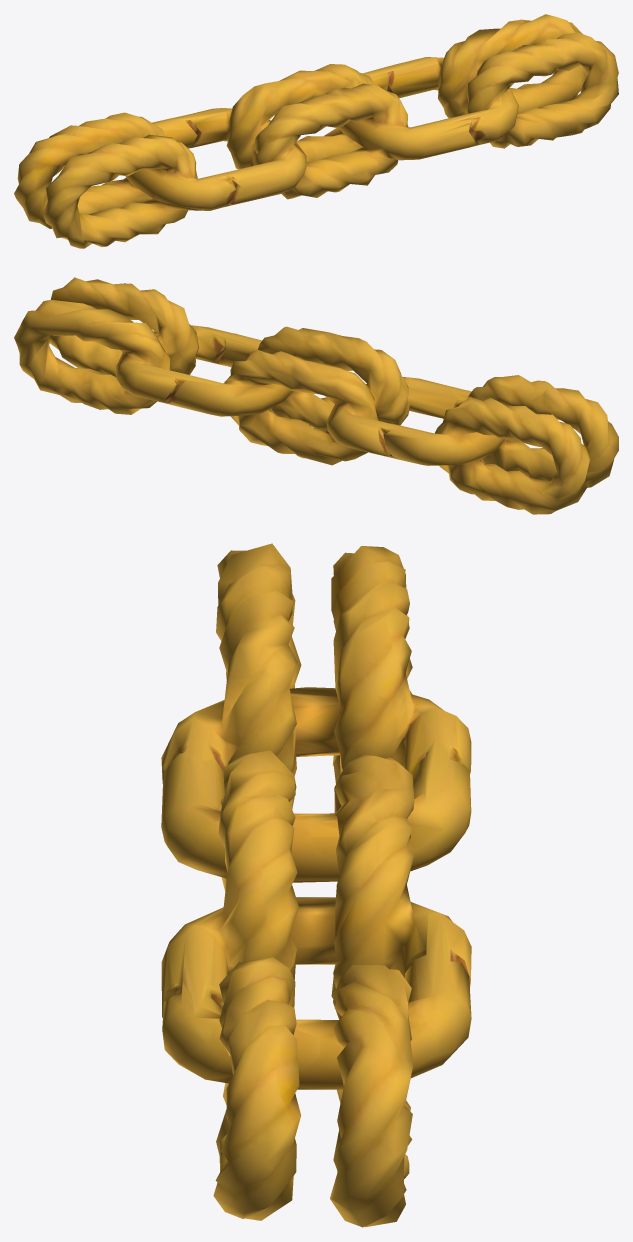
File: prop_chain_link.glb
3 views of the same model, one above another, from view 1: azimuth 30°, elevation 25°; view 2: azimuth 150°, elevation 25°; view 3: azimuth 270°, elevation 25° (orthographic). The views are drawn at different scales.
Parts seen in each view (by area): view 1: tripo_node_aaf5440b-e9b3-43b6-a96d-2130ffb78807; view 2: tripo_node_aaf5440b-e9b3-43b6-a96d-2130ffb78807; view 3: tripo_node_aaf5440b-e9b3-43b6-a96d-2130ffb78807.
Part boxes in pixels (box(x1,y1,x2,y2)): tripo_node_aaf5440b-e9b3-43b6-a96d-2130ffb78807: box(14, 14, 618, 248); tripo_node_aaf5440b-e9b3-43b6-a96d-2130ffb78807: box(14, 277, 618, 514); tripo_node_aaf5440b-e9b3-43b6-a96d-2130ffb78807: box(161, 543, 471, 1227).
Size of the model in its own units: 0.9797 by 0.1682 by 0.2305.
1 material, 1 textured.
